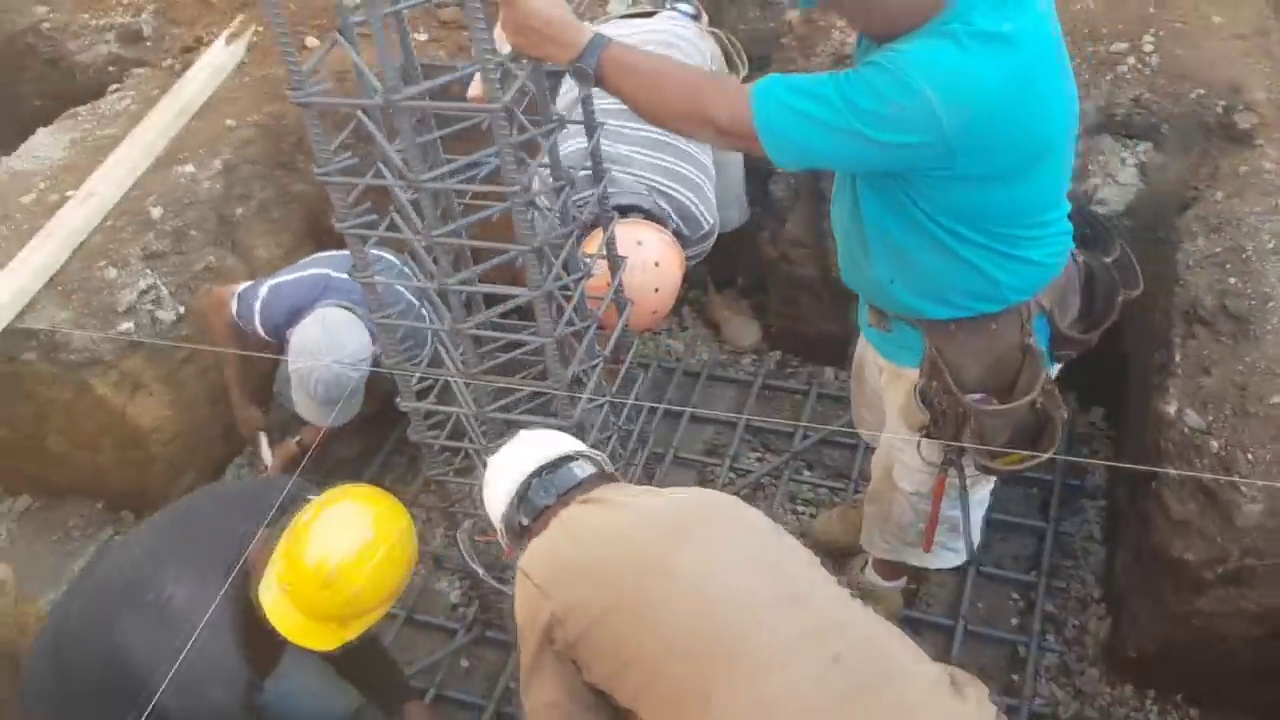helmet: (256, 483, 420, 650), (480, 419, 621, 551), (575, 221, 687, 331)
helmet-off: (282, 311, 375, 431), (800, 0, 956, 50)
helmet-on: (241, 476, 426, 652), (478, 417, 636, 568), (568, 187, 692, 331)
person: (482, 0, 1084, 618), (478, 417, 1028, 720), (3, 472, 435, 720), (466, 0, 773, 343), (208, 229, 458, 462)
